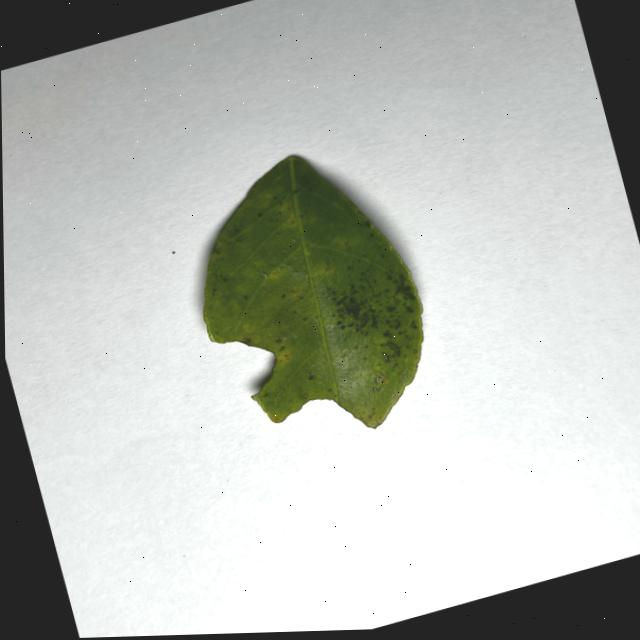sooty_mold: (203, 156, 423, 427)
